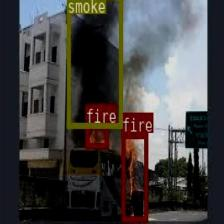fire: (122, 132, 148, 220), (85, 123, 108, 147)
smoke: (66, 0, 121, 126)
